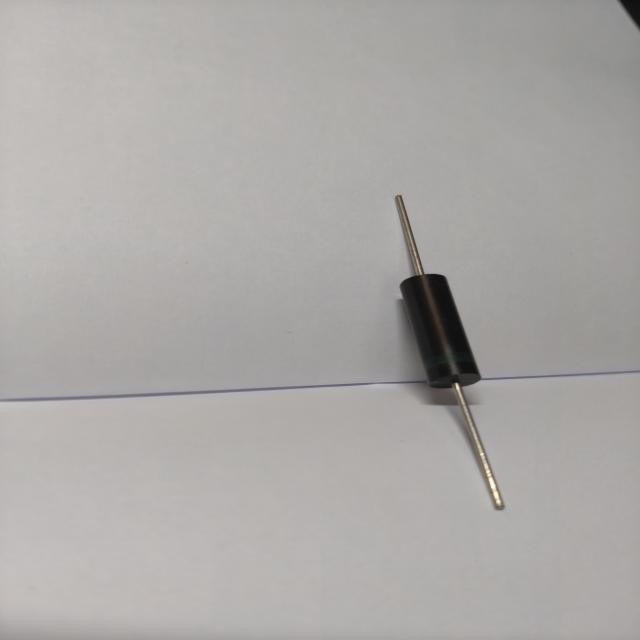resistor: (373, 175, 541, 511)
